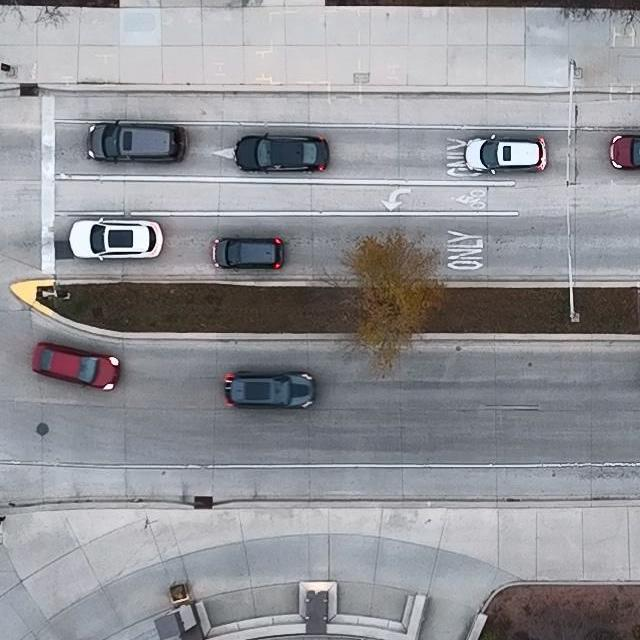car: (31, 341, 121, 390), (69, 217, 164, 262), (88, 121, 188, 163), (233, 132, 331, 174), (464, 134, 547, 178), (222, 372, 316, 409), (211, 234, 284, 272), (607, 133, 640, 172)
